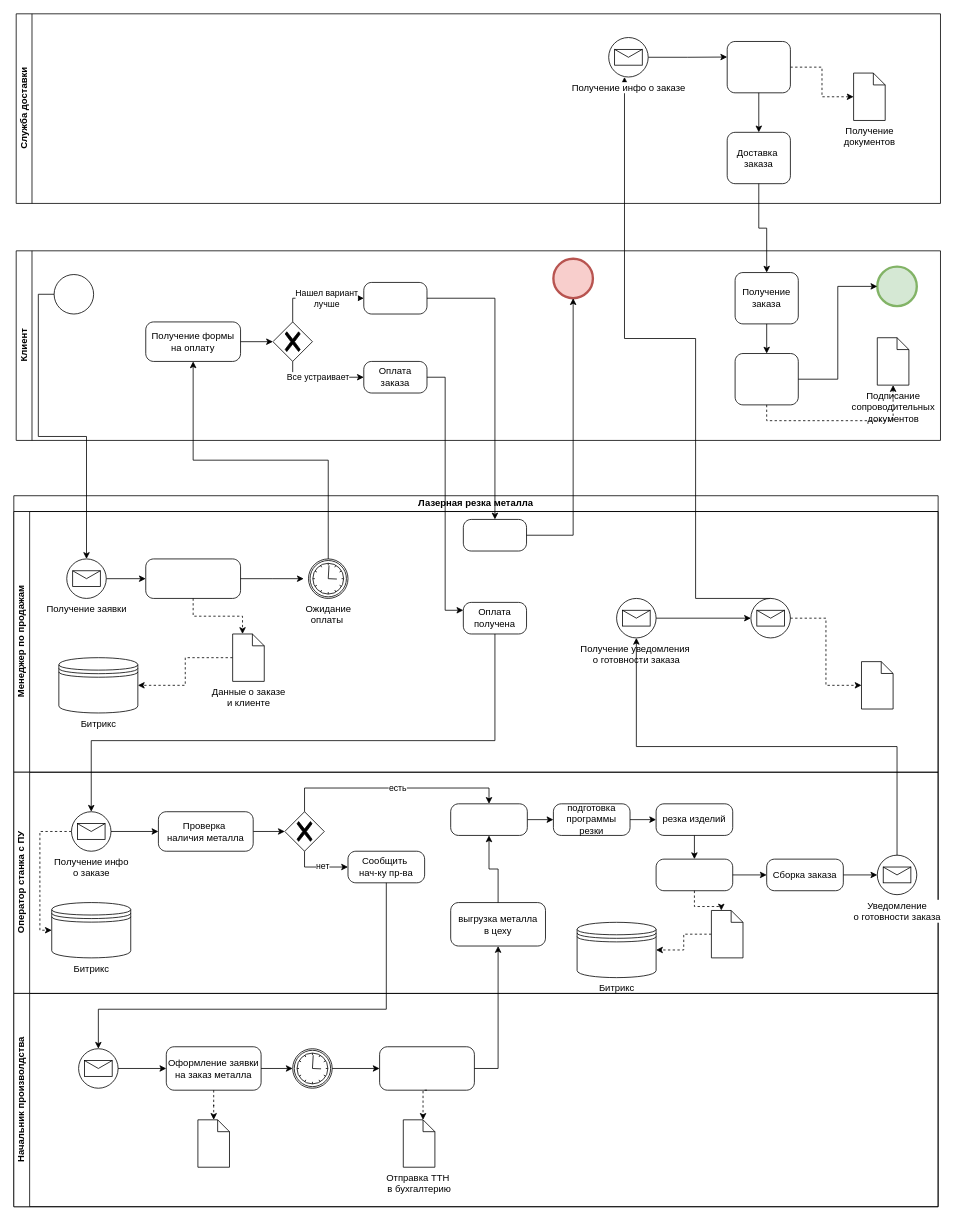
The diagram is 954 pixels wide and 1221 high, and some of its shapes have lost their labels. The centre of each missing label's shape, as x and y in pixels:
выгрузка готового заказа: point (694, 874)
Загрузка заказа на складе: point (758, 67)
загрузка листа на стол: point (488, 819)
Инфо о готовности заказа: point (727, 934)
Информирование службы доставки о готовности заказза: point (770, 618)
Ожидание доставки: point (312, 1068)
Оплата металла: point (213, 1143)
Отказ от заказа: point (395, 298)
Отмена заявки: point (495, 535)
Отправка заявки: point (73, 294)
Оформление заявки: point (193, 578)
Получение инфо о недостаче: point (98, 1068)
Получение металла по ТТН: point (426, 1068)
Проверка заказа: point (766, 379)
Сопроводительные документы: point (877, 685)
